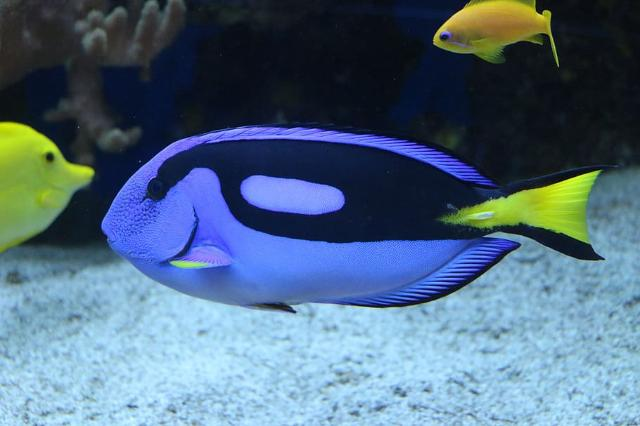Mulut: (80, 197, 144, 284)
Sirip Anal: (314, 225, 532, 323)
Sirip Dada: (153, 219, 253, 290)
Sirip Ekor: (493, 153, 632, 271)
Sirip Perut: (224, 291, 310, 335)
Sirip Punggung: (174, 116, 508, 206)
